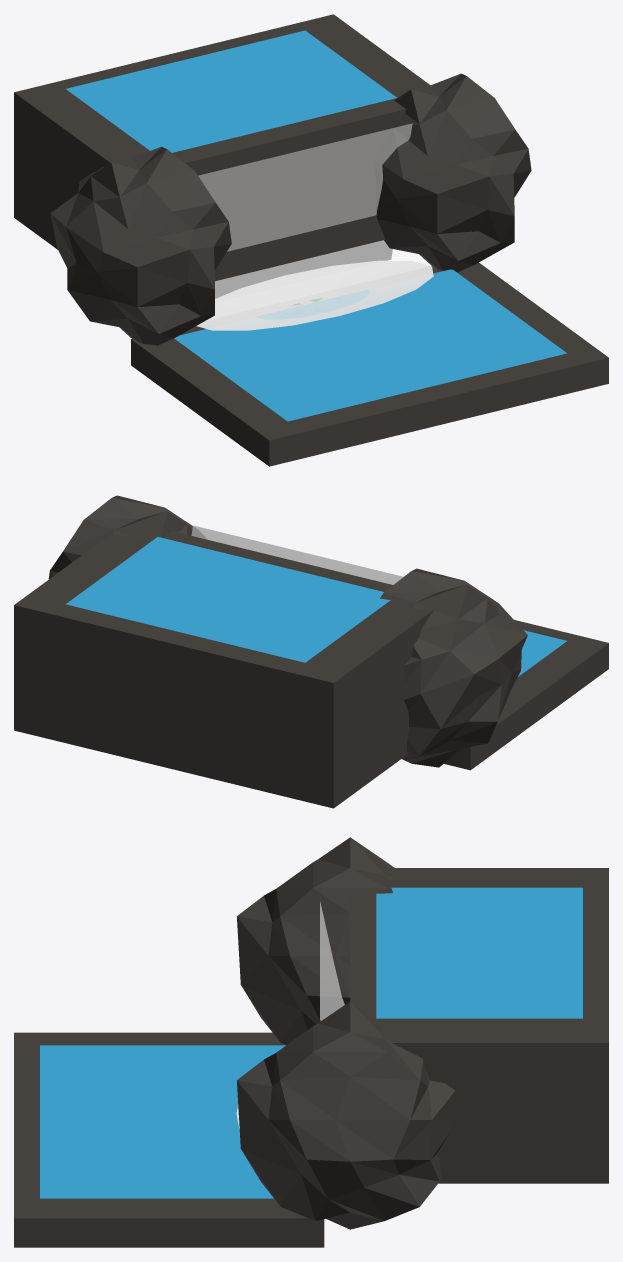
Rendered from stream_waterfall_step_01.glb.
The picture shows the model from 3 angles, top to bottom: view 1: azimuth 30°, elevation 25°; view 2: azimuth 150°, elevation 25°; view 3: azimuth 270°, elevation 25°; orthographic projection. The views are drawn at different scales.
Parts seen in each view (by area): view 1: Stream_Waterfall_Step_01; view 2: Stream_Waterfall_Step_01; view 3: Stream_Waterfall_Step_01.
Boxes of the visible parts, left/top/right/bottom form: Stream_Waterfall_Step_01: left=14, top=14, right=608, bottom=466; Stream_Waterfall_Step_01: left=14, top=495, right=608, bottom=808; Stream_Waterfall_Step_01: left=14, top=837, right=608, bottom=1247.
Size of the model in its own units: 4.44 by 1.88 by 4.6.
